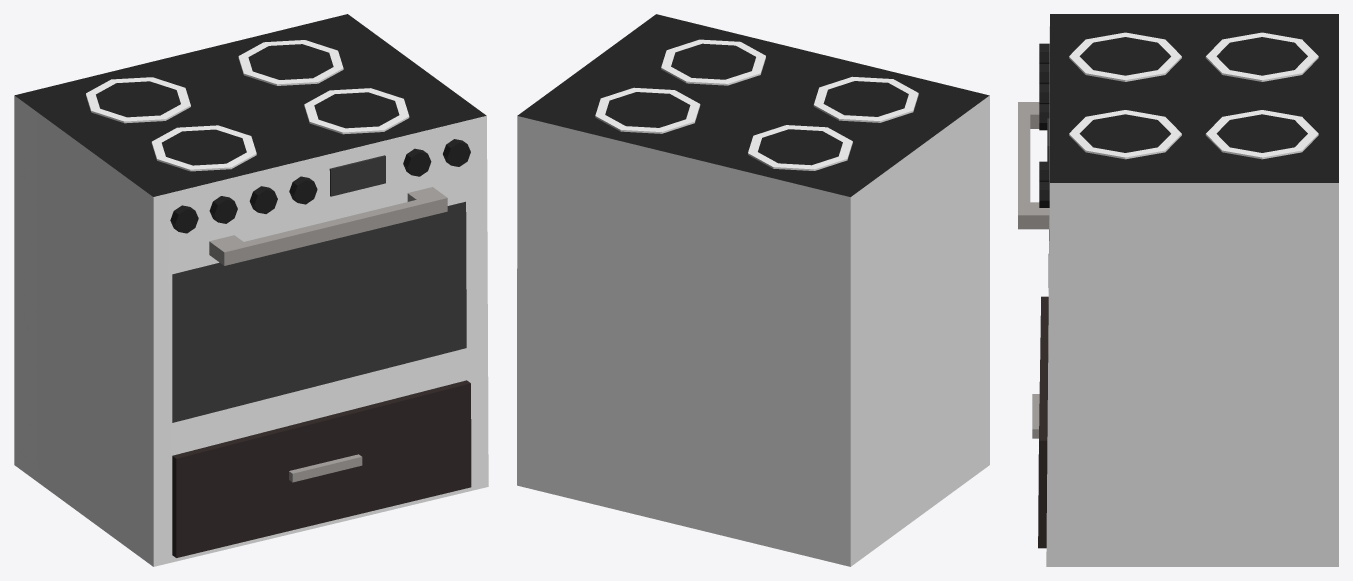
Rendered from Kitchen_Stove_231109.glb.
The picture shows the model from 3 angles, left to right: view 1: azimuth 30°, elevation 25°; view 2: azimuth 150°, elevation 25°; view 3: azimuth 270°, elevation 25°; orthographic projection. The views are drawn at different scales.
Visible parts, largest first — view 1: Kitchen_Stove; view 2: Kitchen_Stove; view 3: Kitchen_Stove.
Boxes of the visible parts, x1,y1,x2,y2 form: Kitchen_Stove: [14, 14, 488, 566]; Kitchen_Stove: [517, 14, 989, 566]; Kitchen_Stove: [1018, 14, 1338, 566].
Bounding box in the file's own units: 1.22 × 1.3 × 0.9798.
Materials: 1 (1 with a texture image).
